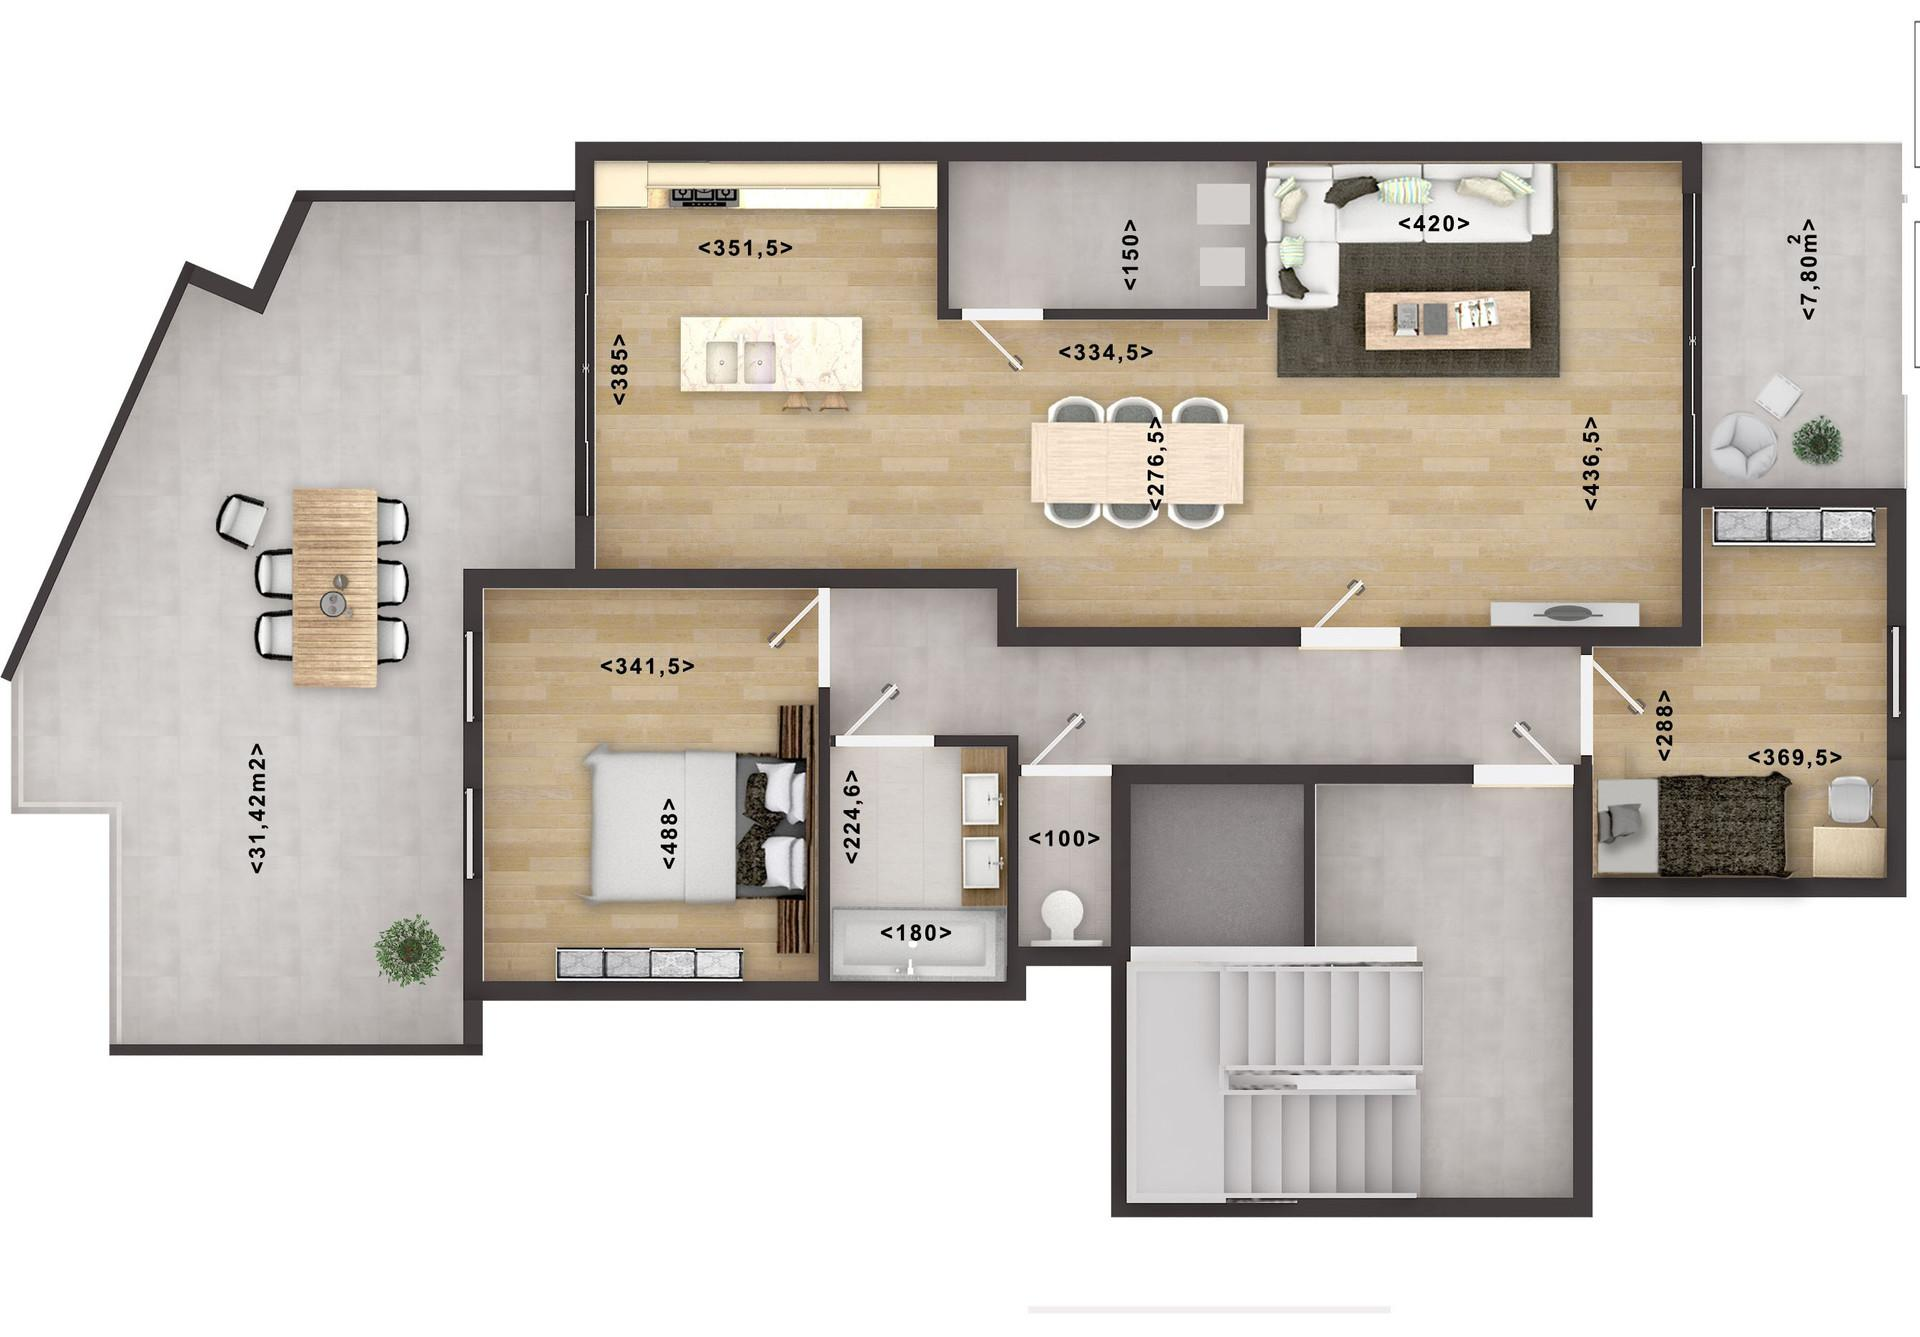room: (582, 147, 1697, 638), (471, 578, 823, 993), (1587, 635, 1898, 886), (826, 739, 1013, 991), (1015, 768, 1119, 958)
